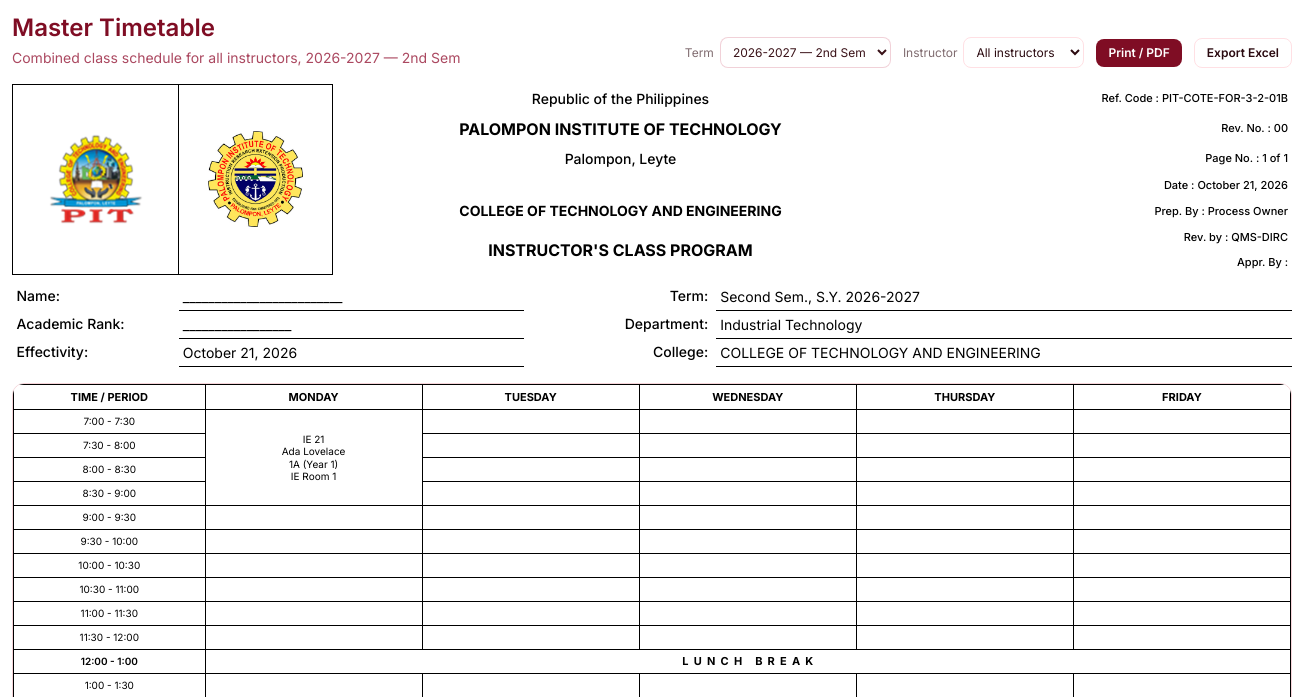
Test: ClassProgramPage › switches the master view to one instructor via the filter and back
Select "Hopper, Grace" in the dropdown named "Filter by instructor": [1024, 52] box [963,37,1084,68]
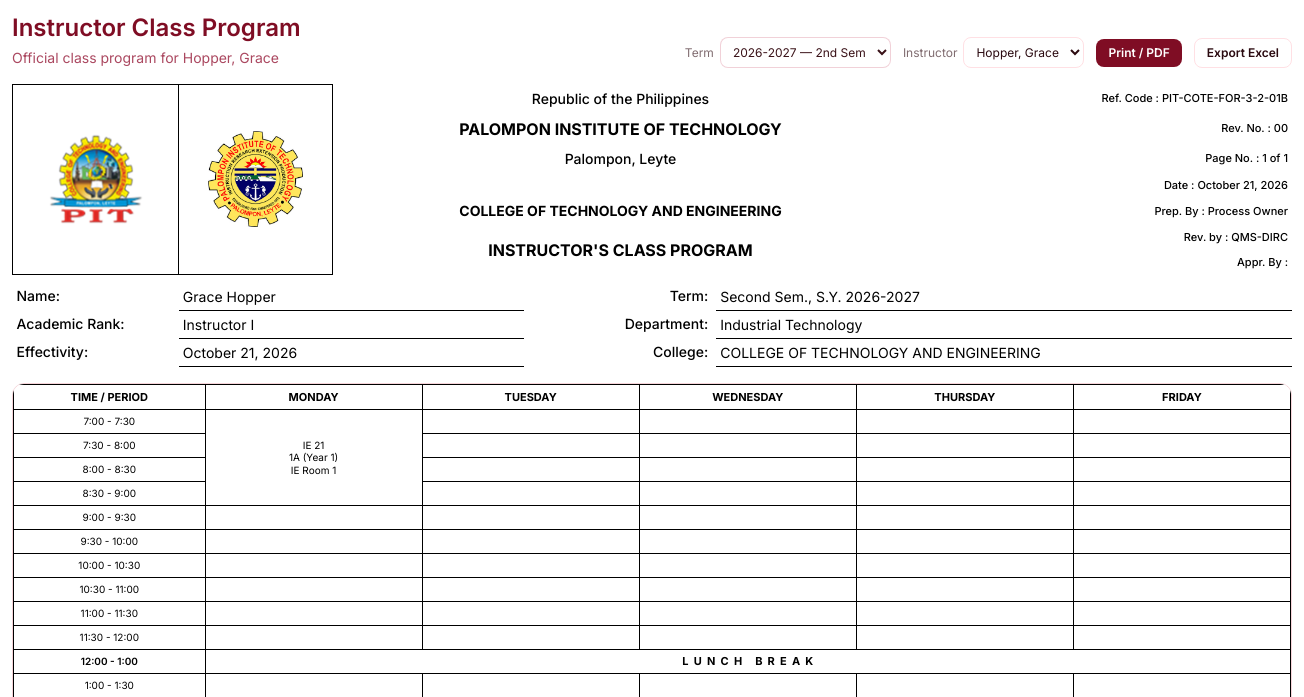
Result: the heading "Instructor Class Program" is shown at [12,12,301,44]
Note: Back to "All instructors" → master mode again.
Select "All instructors" in the dropdown named "Filter by instructor": [1024, 52] box [963,37,1084,68]
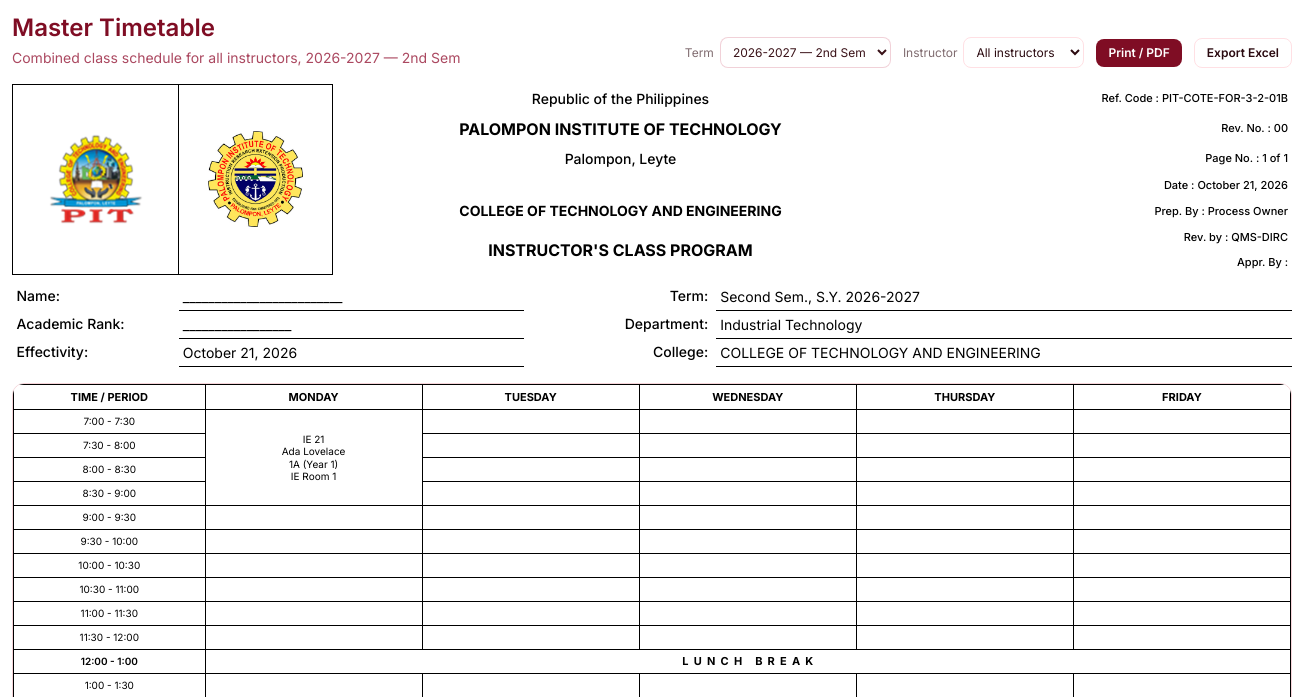
Result: the heading "Master Timetable" is shown at [12,13,215,42]
